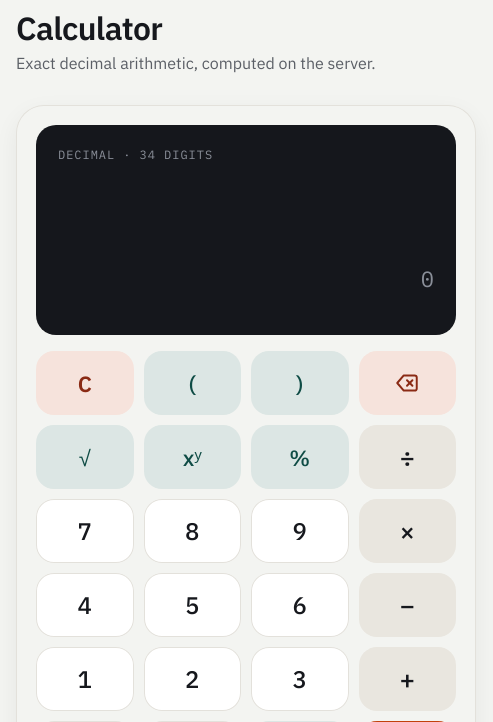
Test case: App › edits with Delete and Clear
The width and height of the screenshot is (493, 722).
Step 1. Click the button named "Square root" → (85, 457), box x1=36 y1=425 x2=134 y2=489
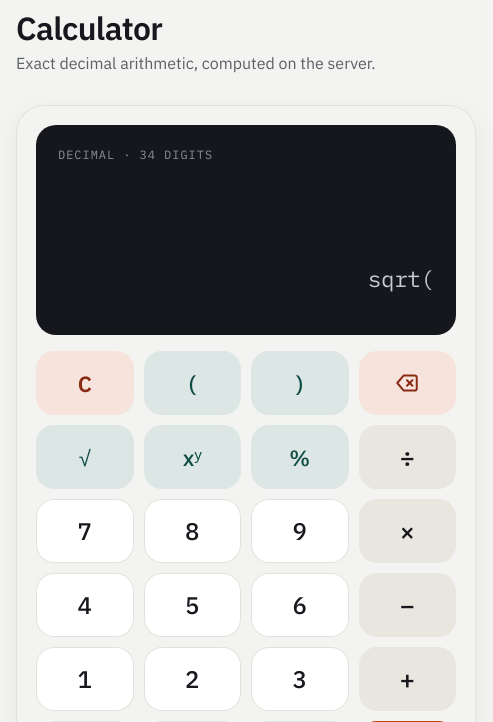
Step 2. Click the button "9" → (300, 531), box x1=251 y1=499 x2=348 y2=563
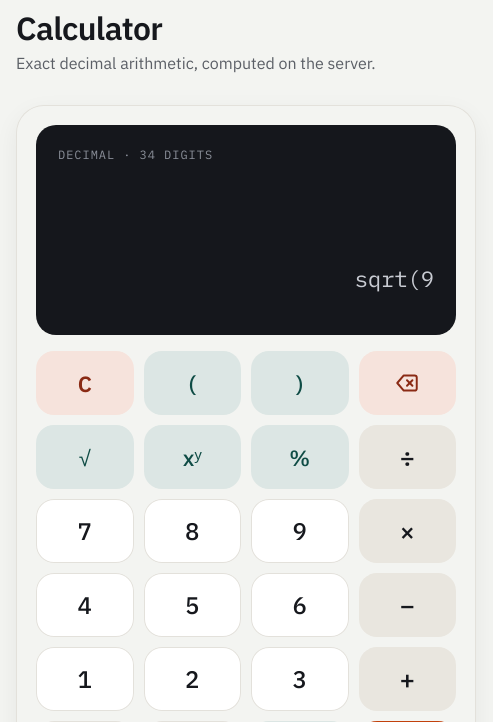
Step 3. Click the button named "Delete" → (407, 383), box x1=358 y1=351 x2=456 y2=415
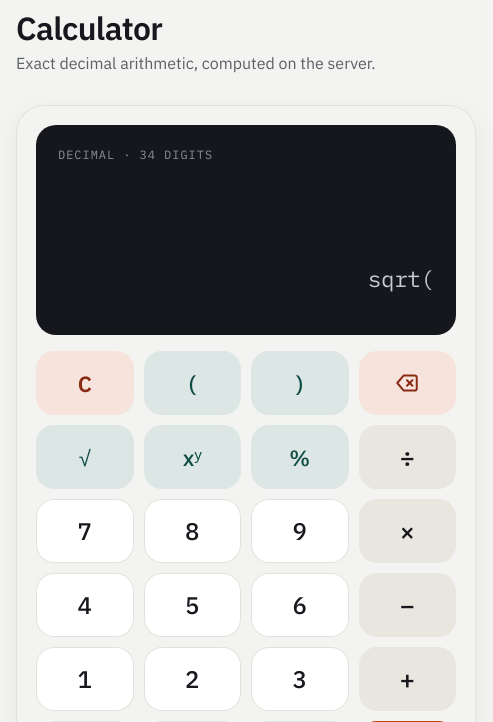
Result: the field named "Expression" reads "sqrt(" at x1=368 y1=264 x2=434 y2=293
Step 4. Click the button named "Delete" → (407, 383), box x1=358 y1=351 x2=456 y2=415
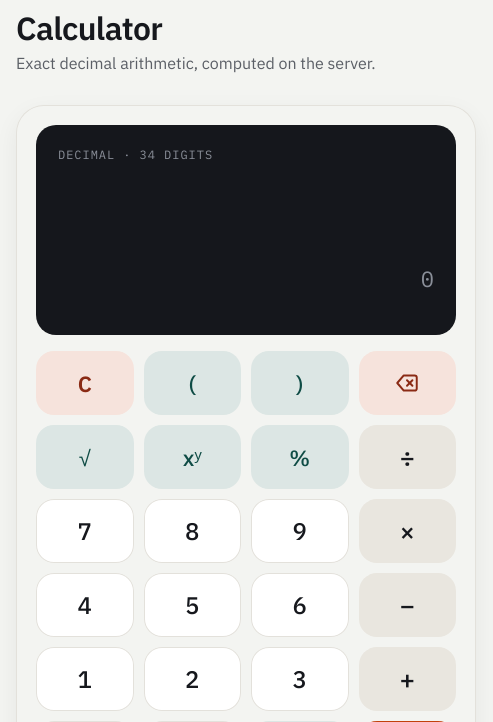
Result: the field named "Expression" reads "0" at x1=421 y1=264 x2=434 y2=293
Step 5. Click the button "4" → (85, 605), box x1=36 y1=573 x2=134 y2=637
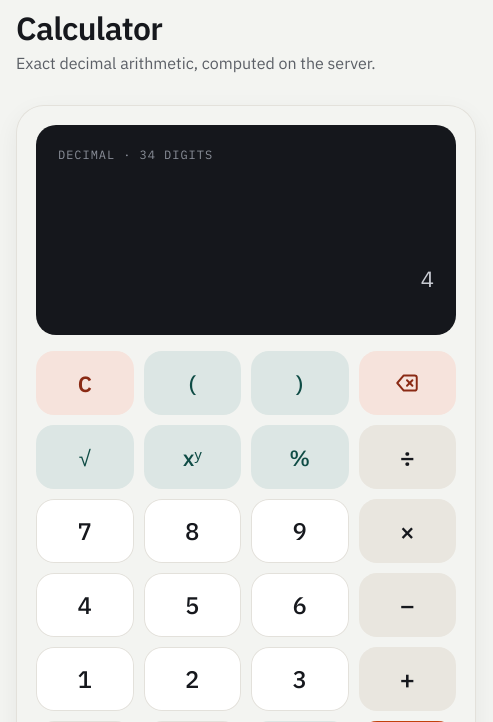
Step 6. Click the button named "Clear" → (85, 383), box x1=36 y1=351 x2=134 y2=415
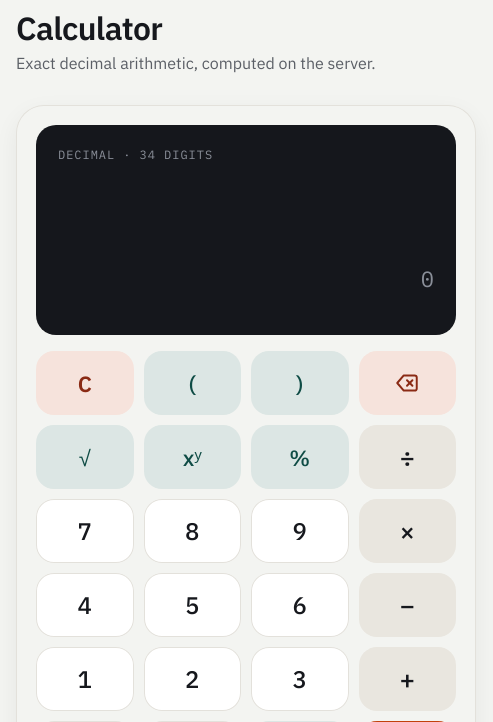
Result: the field named "Expression" reads "0" at x1=421 y1=264 x2=434 y2=293
